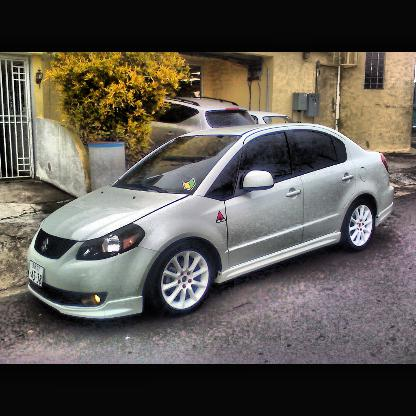Suzuki SX4 Sedan 2012: (25, 117, 397, 325)
